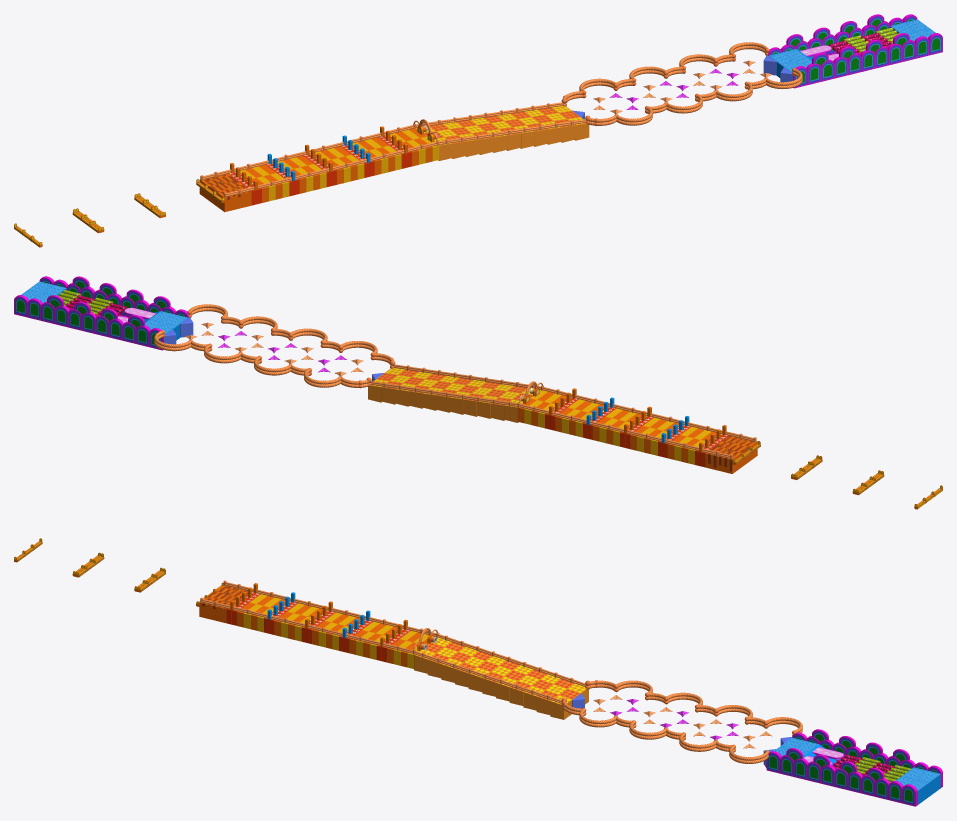
File: All_round.fbx
3 renders of one model, top to bottom at view 1: azimuth 30°, elevation 25°; view 2: azimuth 150°, elevation 25°; view 3: azimuth 330°, elevation 25°, orthographic.
Parts seen in each view (by area): view 1: polySurface533, polySurface292, polySurface75, polySurface656, polySurface165, polySurface534, polySurface209, polySurface335, pCube119, polySurface589; view 2: polySurface533, polySurface292, polySurface75, polySurface656, polySurface165, polySurface534, polySurface209, polySurface335, pCube119, polySurface589; view 3: polySurface533, polySurface292, polySurface75, polySurface656, polySurface165, polySurface335, polySurface534, polySurface209, pCube119.
Boxes of the visible parts, left/top/right/bottom form: polySurface533: left=413, top=102, right=589, bottom=160; polySurface292: left=768, top=14, right=942, bottom=88; polySurface75: left=240, top=128, right=439, bottom=202; polySurface656: left=561, top=42, right=802, bottom=126; polySurface165: left=228, top=135, right=411, bottom=205; polySurface534: left=234, top=125, right=436, bottom=188; polySurface209: left=199, top=174, right=251, bottom=212; polySurface335: left=769, top=19, right=935, bottom=77; pCube119: left=230, top=126, right=407, bottom=190; polySurface589: left=14, top=182, right=221, bottom=246; polySurface533: left=368, top=364, right=543, bottom=422; polySurface292: left=14, top=276, right=188, bottom=350; polySurface75: left=517, top=390, right=716, bottom=464; polySurface656: left=154, top=304, right=395, bottom=388; polySurface165: left=545, top=397, right=728, bottom=467; polySurface534: left=520, top=387, right=722, bottom=450; polySurface209: left=705, top=435, right=757, bottom=473; polySurface335: left=21, top=281, right=187, bottom=340; pCube119: left=549, top=388, right=726, bottom=452; polySurface589: left=735, top=443, right=942, bottom=508; polySurface533: left=413, top=628, right=588, bottom=719; polySurface292: left=766, top=729, right=942, bottom=806; polySurface75: left=237, top=594, right=437, bottom=668; polySurface656: left=561, top=680, right=802, bottom=763; polySurface165: left=226, top=592, right=410, bottom=662; polySurface335: left=774, top=737, right=940, bottom=804; polySurface534: left=233, top=589, right=436, bottom=653; polySurface209: left=199, top=585, right=247, bottom=623; pCube119: left=230, top=583, right=407, bottom=647.
Size of the model in its own units: 2598 by 129 by 267.
